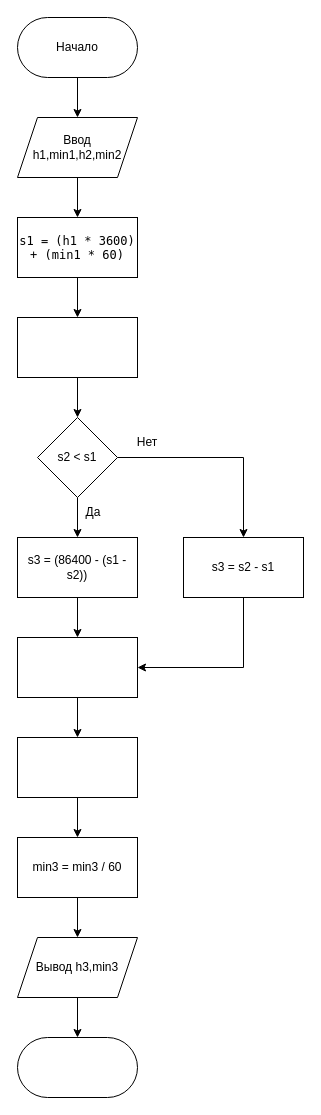
The diagram is 321 pixels wide and 1115 high, and some of its shapes have lost their labels. Each missing label, with the centre of its shape:
"h3 = s3 / 3600" belongs at [77,667].
"min3 = s3 % 3600" belongs at [77,767].
"s2 = (h2 * 3600) + (min2 * 60)" belongs at [77,347].
"Конец" belongs at [77,1067].
